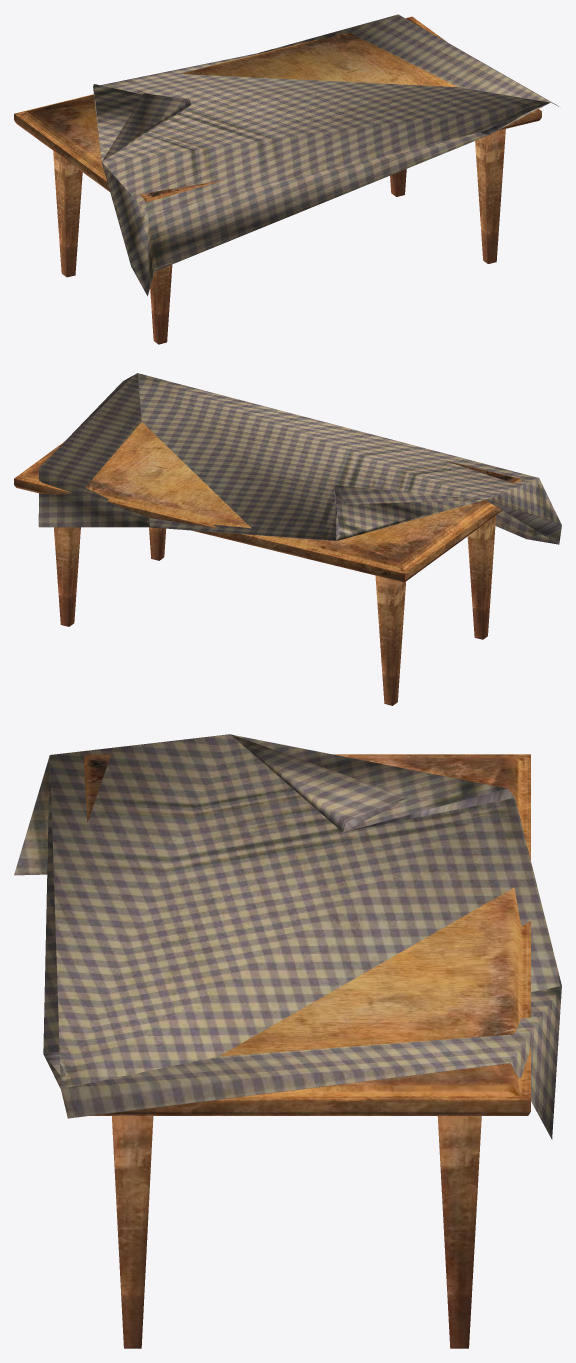
3 views of the same model, one above another, from view 1: azimuth 30°, elevation 25°; view 2: azimuth 150°, elevation 25°; view 3: azimuth 270°, elevation 25° (orthographic). The views are drawn at different scales.
Parts seen in each view (by area): view 1: dining_table; view 2: dining_table; view 3: dining_table.
Boxes of the visible parts, <box> form: dining_table: <box>14,14,559,344</box>; dining_table: <box>14,373,561,705</box>; dining_table: <box>14,734,561,1348</box>.
Bounding box in the file's own units: 2.26 × 0.8681 × 1.37.
Materials: 1 (1 with a texture image).
